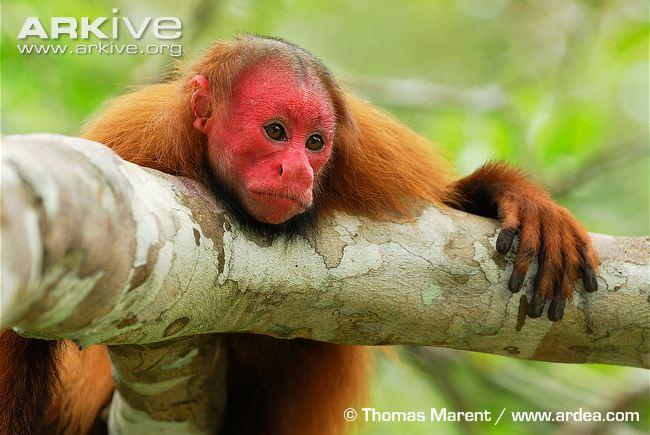monkey: (80, 33, 601, 309)
